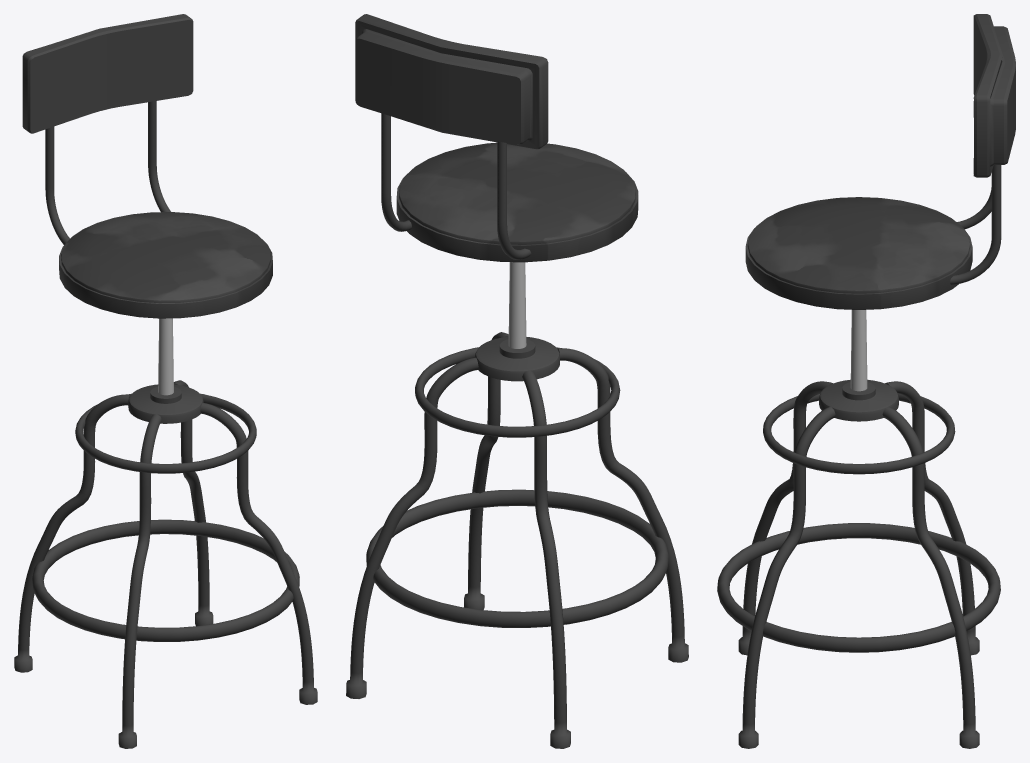
The model's file is work_chair.fbx.
3 renders of one model, left to right at view 1: azimuth 30°, elevation 25°; view 2: azimuth 150°, elevation 25°; view 3: azimuth 270°, elevation 25°, orthographic. The views are drawn at different scales.
Parts seen in each view (by area): view 1: Cylinder, Cube, BézierCurve.001, Torus.001, Torus, BézierCurve; view 2: Cylinder, Cube, BézierCurve.001, Torus.001, Torus, BézierCurve; view 3: Cylinder, BézierCurve.001, Torus.001, Cube, Torus, BézierCurve.
Part boxes in pixels (<box>): Cylinder: <box>59,212,272,423</box>; Cube: <box>22,14,193,133</box>; BézierCurve.001: <box>14,380,317,748</box>; Torus.001: <box>32,519,299,641</box>; Torus: <box>75,393,256,473</box>; BézierCurve: <box>45,101,170,244</box>; Cylinder: <box>396,142,638,381</box>; Cube: <box>355,14,548,149</box>; BézierCurve.001: <box>346,332,688,748</box>; Torus.001: <box>366,489,668,627</box>; Torus: <box>415,347,620,437</box>; BézierCurve: <box>381,113,531,259</box>; Cylinder: <box>745,197,972,421</box>; BézierCurve.001: <box>738,381,979,748</box>; Torus.001: <box>717,523,1000,652</box>; Cube: <box>973,14,1015,177</box>; Torus: <box>763,394,955,474</box>; BézierCurve: <box>950,165,1001,284</box>.
Bounding box in the file's own units: 1.85 × 4.62 × 1.94.
Materials: 3 (1 with a texture image).
